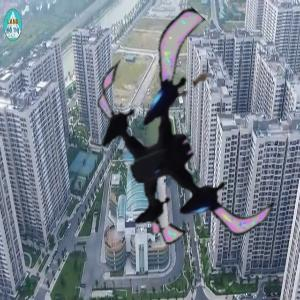drone: (70, 39, 296, 265)
